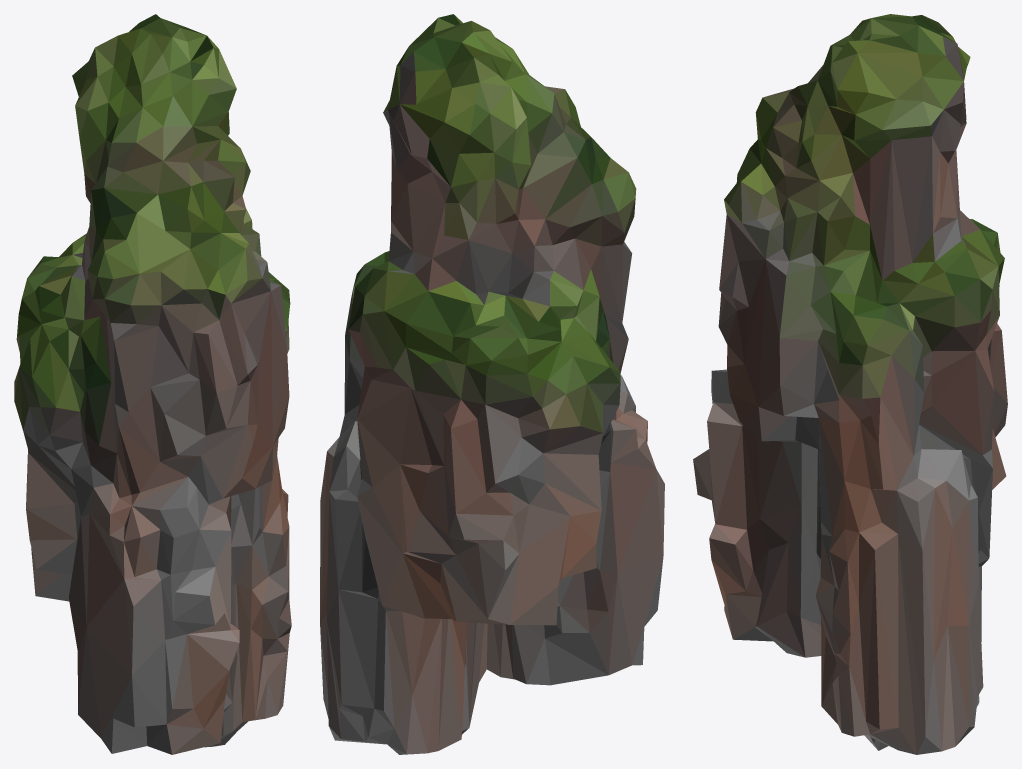
File: Spire_B-Foliage.fbx
3 renders of one model, left to right at view 1: azimuth 30°, elevation 25°; view 2: azimuth 150°, elevation 25°; view 3: azimuth 270°, elevation 25°, orthographic. The views are drawn at different scales.
Parts seen in each view (by area): view 1: Spire_B-Foliage; view 2: Spire_B-Foliage; view 3: Spire_B-Foliage.
Boxes of the visible parts, x1,y1,x2,y2 form: Spire_B-Foliage: (14, 14, 291, 754); Spire_B-Foliage: (320, 14, 664, 754); Spire_B-Foliage: (693, 14, 1007, 754).
Size of the model in its own units: 3499 by 9208 by 3722.
